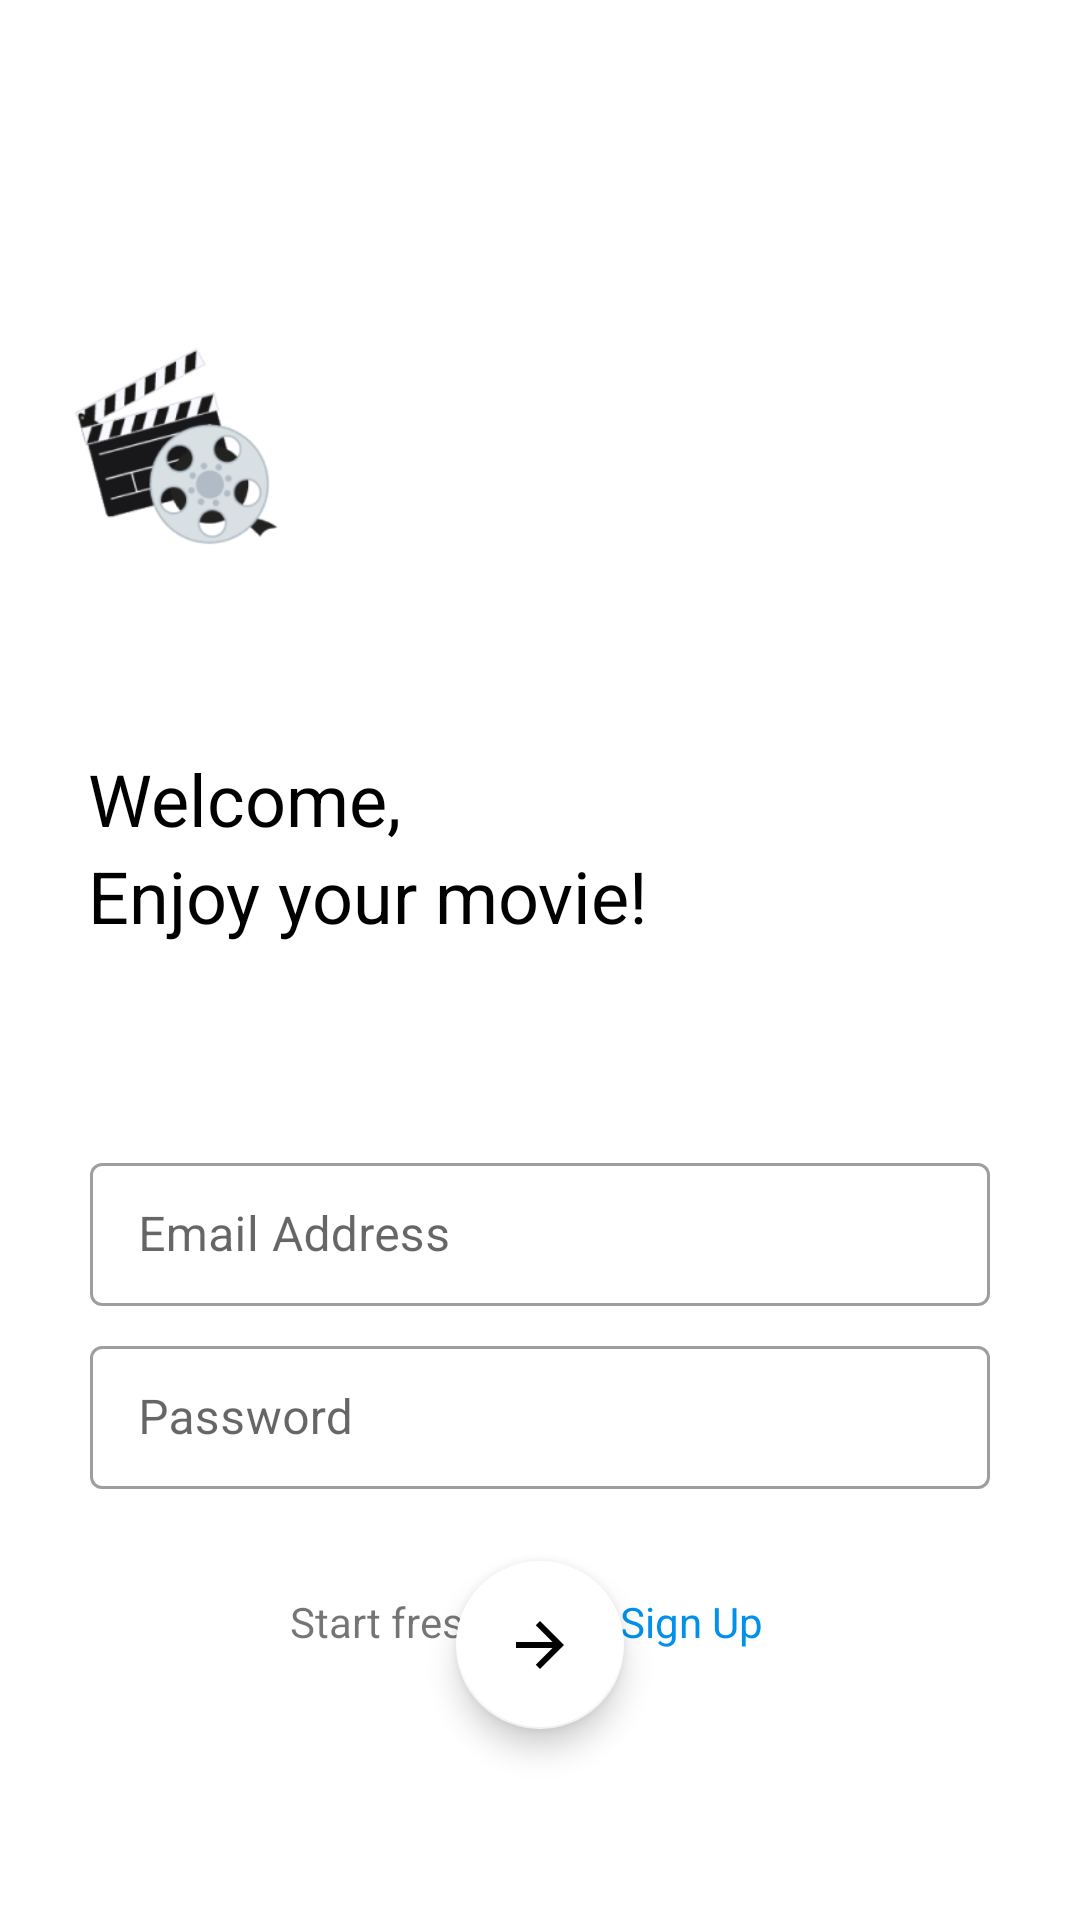

Locate icon controls on the screen. Image size 1080w x 1920h, boxes as (x1, y1, x2, y2).
arrow forward: (456, 1612, 624, 1729)
